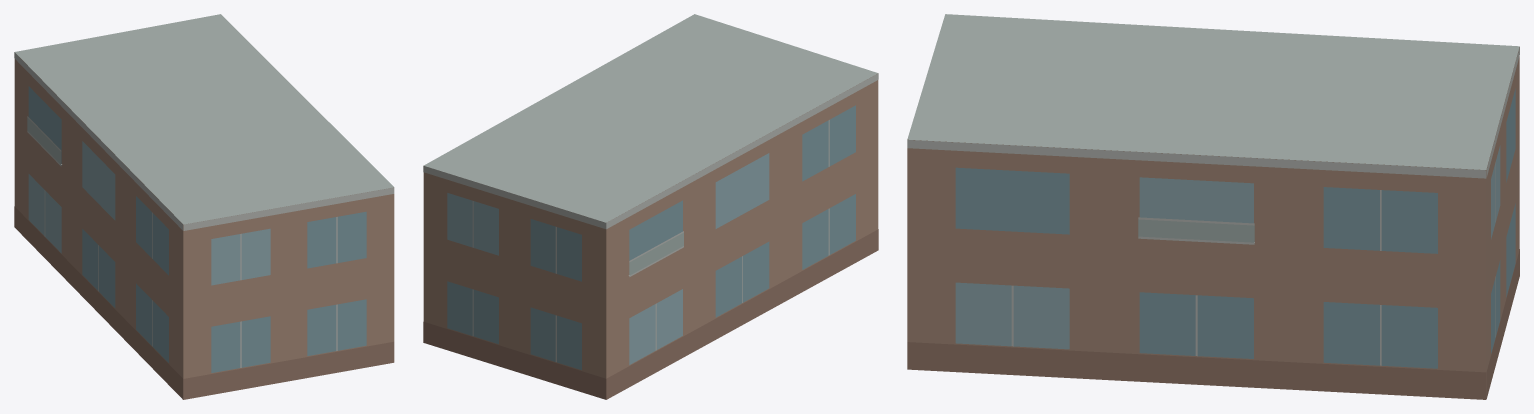
Rendered from survey-upis-32505483.glb.
The picture shows the model from 3 angles, left to right: view 1: azimuth 30°, elevation 25°; view 2: azimuth 150°, elevation 25°; view 3: azimuth 270°, elevation 25°; orthographic projection. The views are drawn at different scales.
Visible parts, largest first — view 1: survey-upis-32505483.tmp; view 2: survey-upis-32505483.tmp; view 3: survey-upis-32505483.tmp.
Boxes of the visible parts, x1,y1,x2,y2 form: survey-upis-32505483.tmp: (14, 14, 394, 399); survey-upis-32505483.tmp: (423, 14, 878, 399); survey-upis-32505483.tmp: (907, 14, 1519, 399).
Size of the model in its own units: 9.62 by 6.6 by 15.96.
